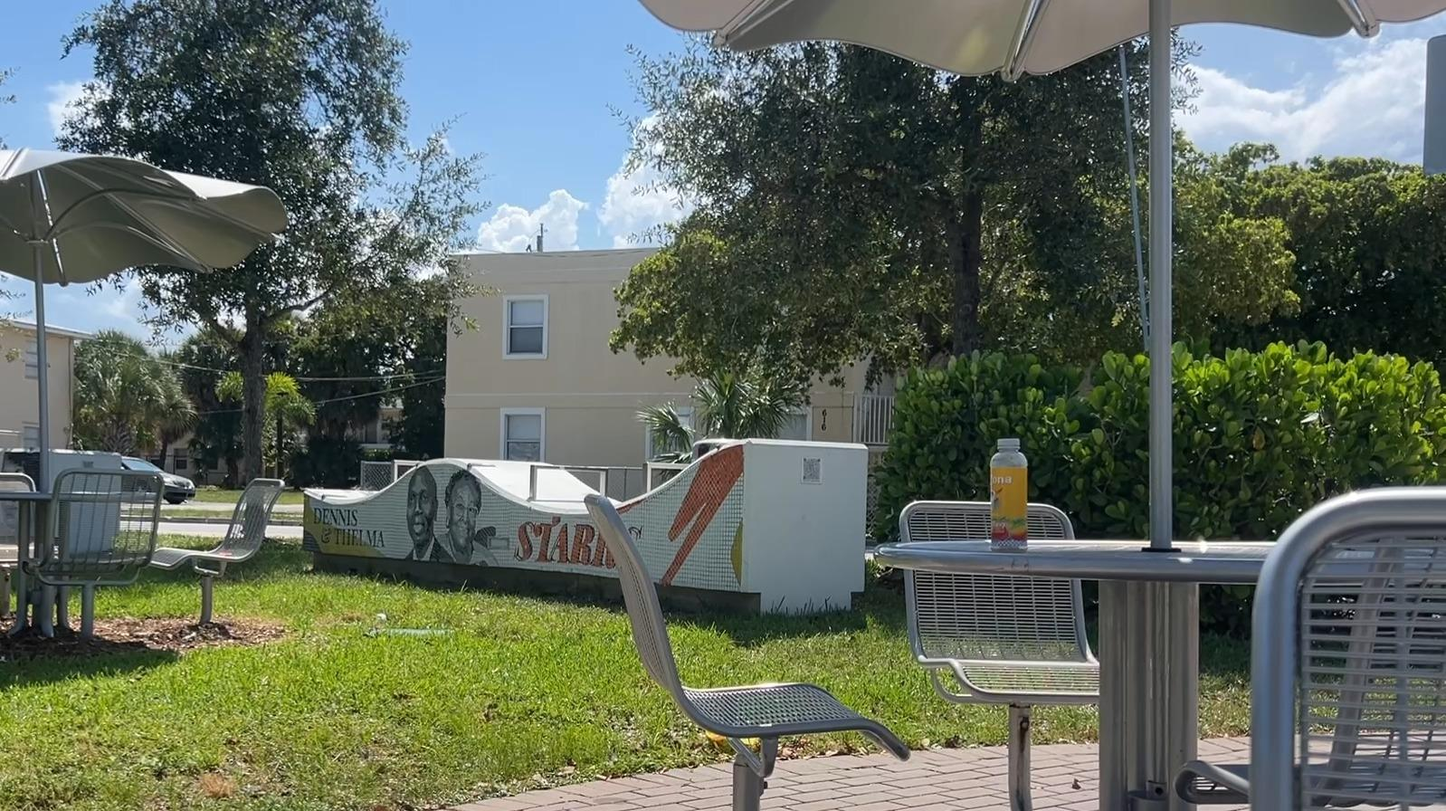Trash: (974, 424, 1053, 566)
